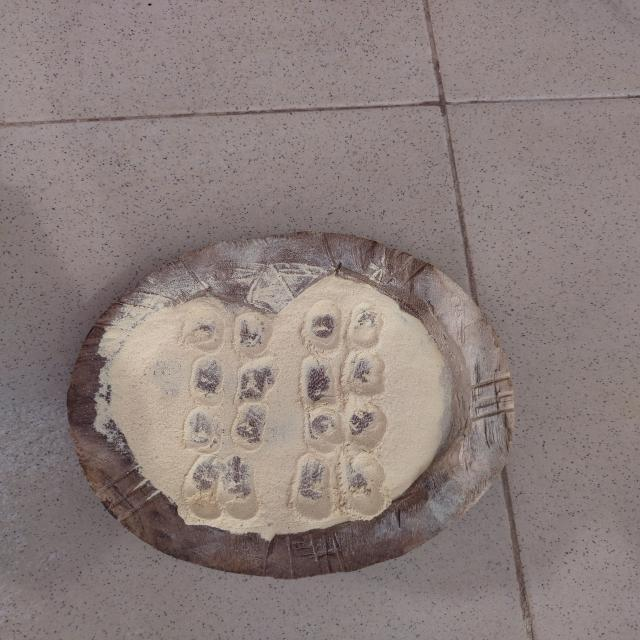double: (287, 452, 387, 520), (182, 454, 262, 522), (300, 396, 386, 453), (182, 404, 272, 454), (300, 300, 390, 350), (184, 310, 274, 358), (186, 360, 274, 402), (303, 355, 385, 398)
